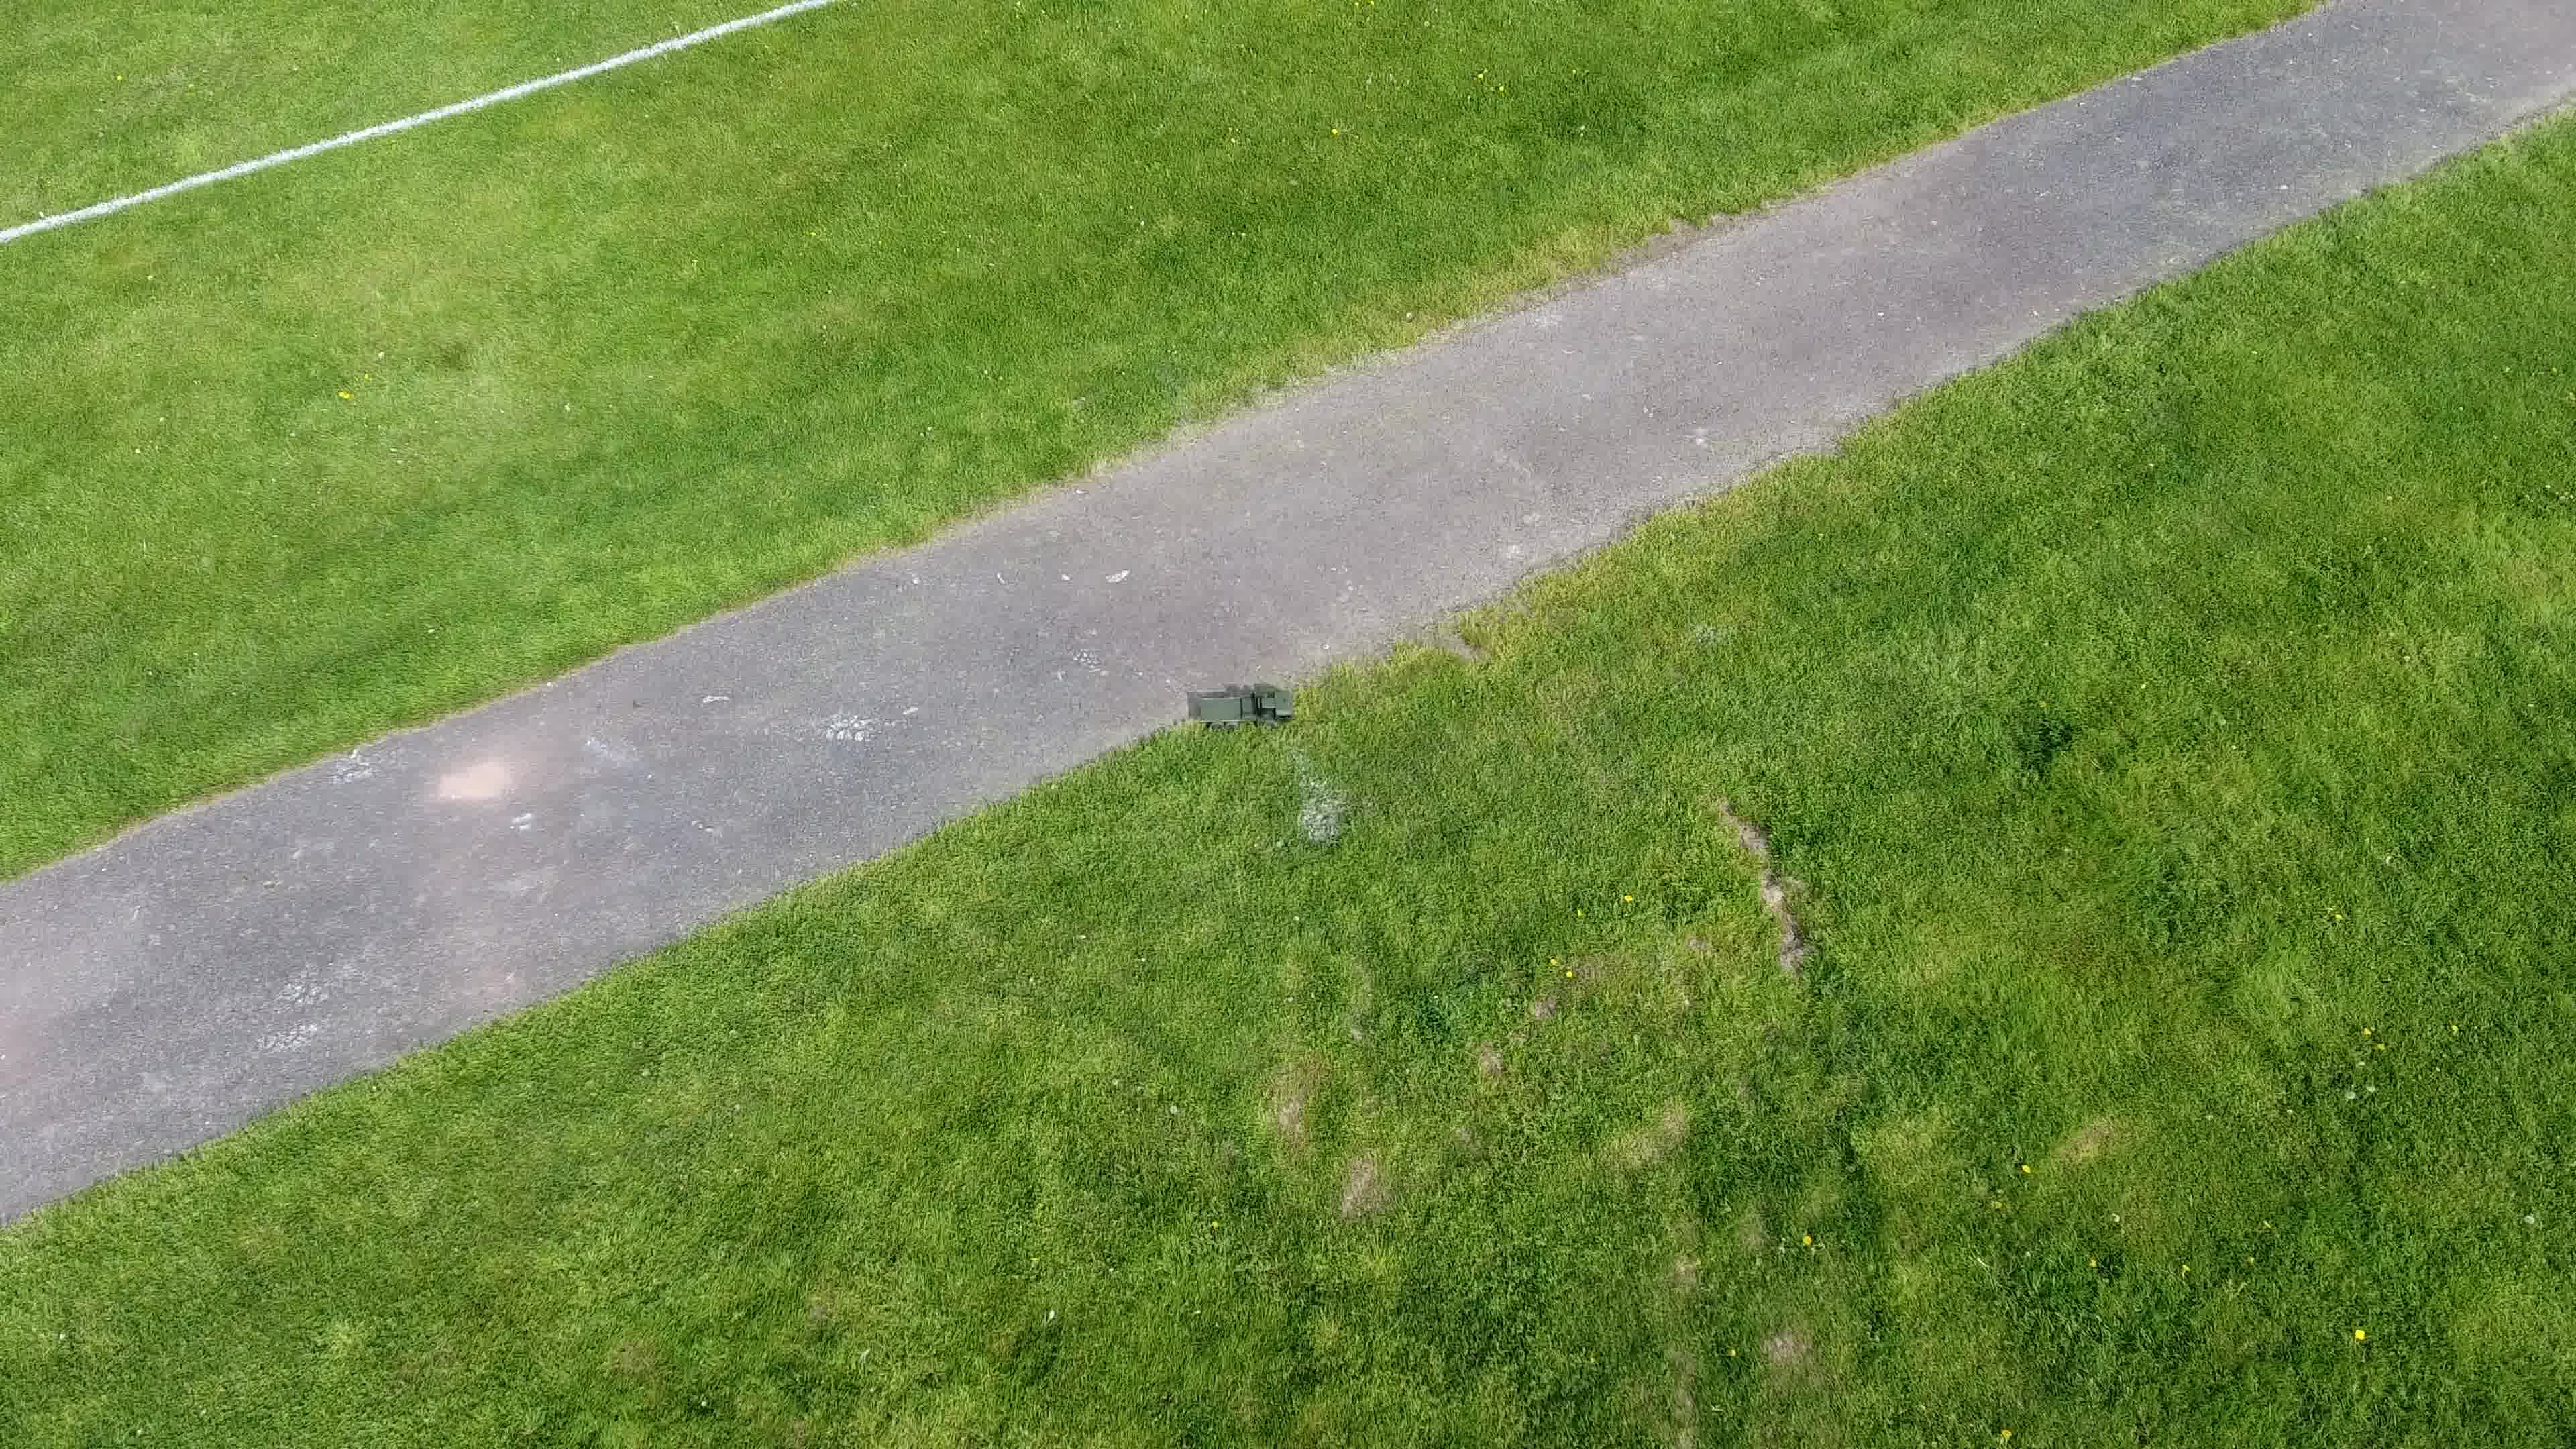transporter9: (1192, 688, 1297, 732)
